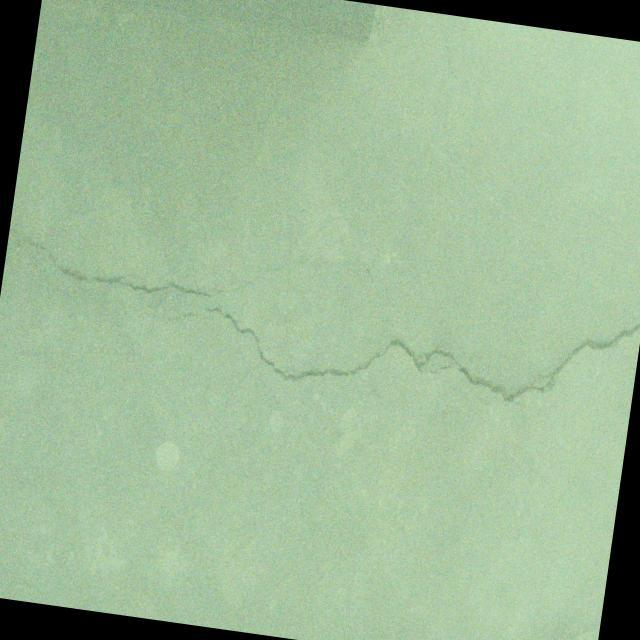crack: (195, 258, 640, 429), (3, 210, 376, 324), (424, 124, 526, 271), (437, 33, 465, 86), (160, 308, 209, 328)
